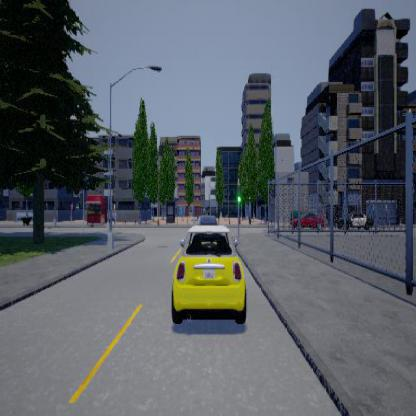traffic_light_green: (236, 180, 240, 204)
vehicle: (171, 215, 246, 323), (335, 210, 372, 229), (288, 213, 324, 228)
